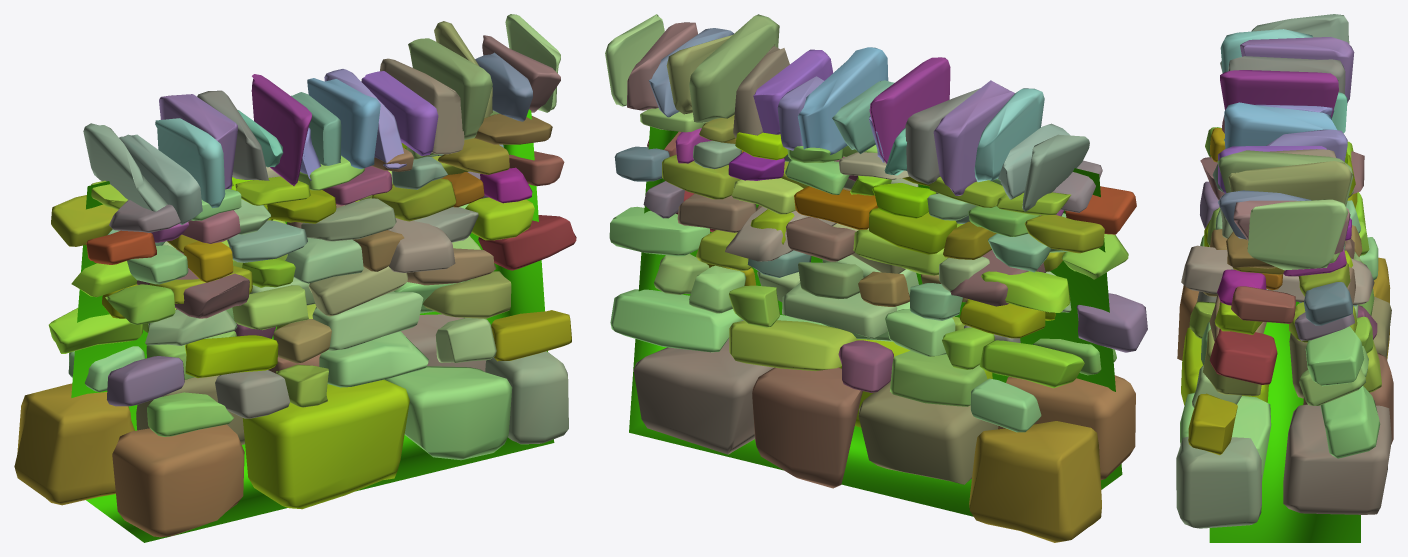
Rendered from SM_Prop_wall_stone_1.glb.
3 renders of one model, left to right at view 1: azimuth 30°, elevation 25°; view 2: azimuth 150°, elevation 25°; view 3: azimuth 270°, elevation 25°, orthographic. The views are drawn at different scales.
Parts seen in each view (by area): view 1: SM_Prop_wall_stone_1; view 2: SM_Prop_wall_stone_1; view 3: SM_Prop_wall_stone_1.
Boxes of the visible parts, box(x1,y1,x2,y2) form: SM_Prop_wall_stone_1: box(14, 14, 576, 542); SM_Prop_wall_stone_1: box(605, 14, 1147, 542); SM_Prop_wall_stone_1: box(1176, 14, 1393, 542).
Bounding box in the file's own units: 2.31 × 1.74 × 0.9492.
